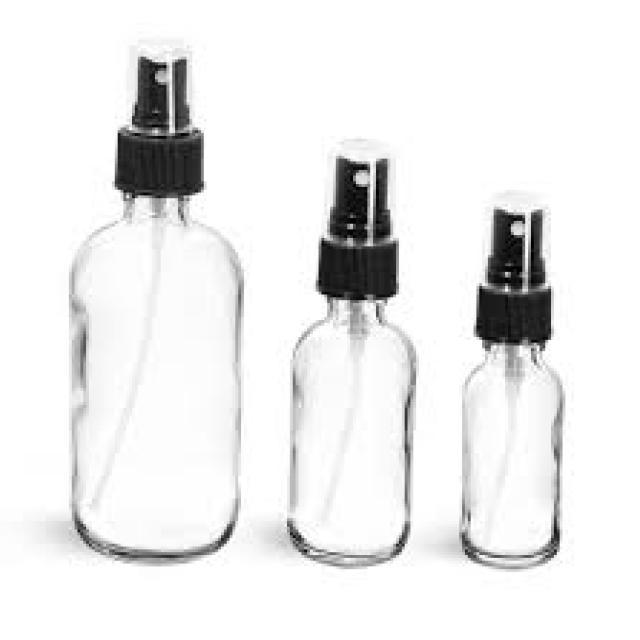Glass: (66, 194, 245, 558), (286, 306, 416, 568), (459, 347, 568, 570)
